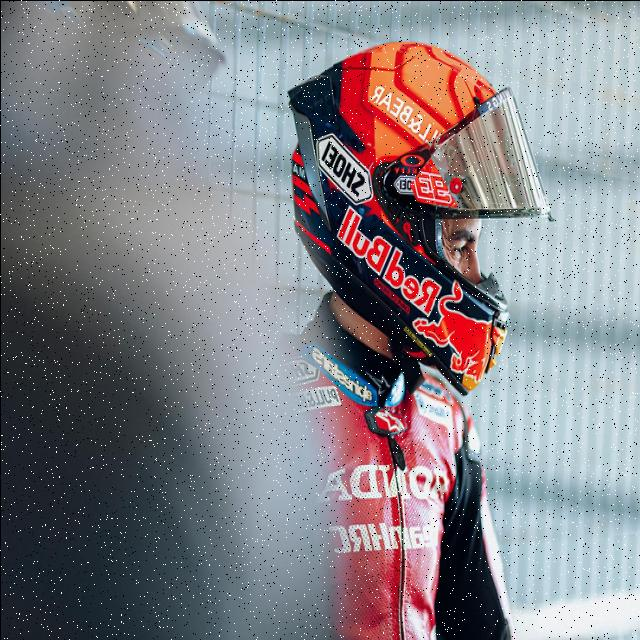Helmet: (288, 46, 545, 404)
